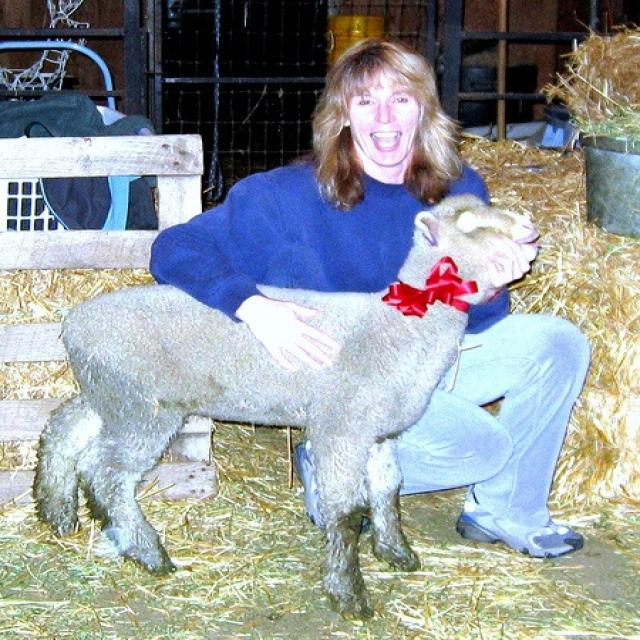sheep: (33, 194, 540, 616)
